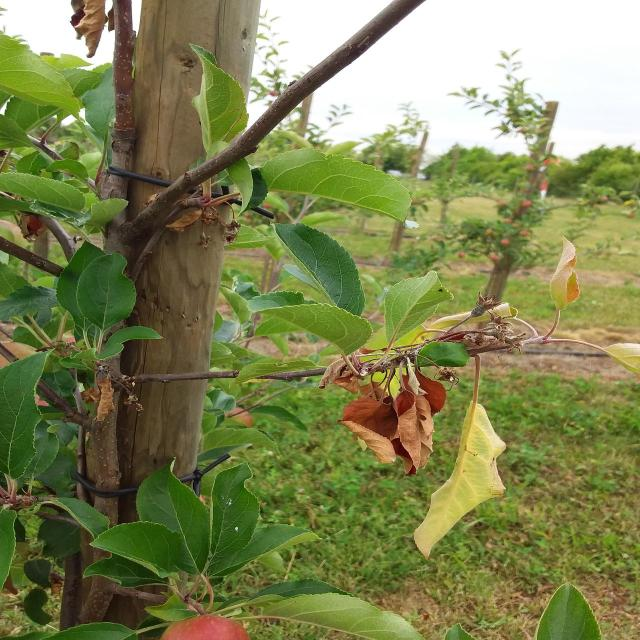-FireBlight-: (328, 345, 452, 471), (162, 184, 248, 248), (51, 0, 103, 56), (88, 381, 140, 427)
